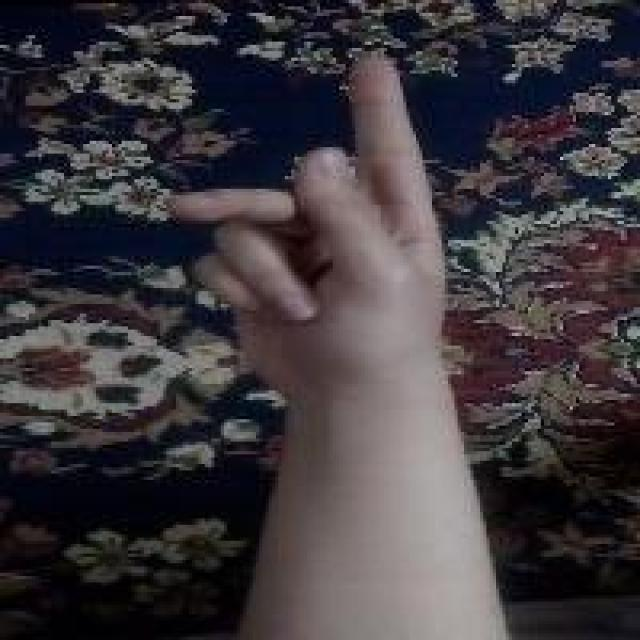K: (160, 49, 458, 398)
